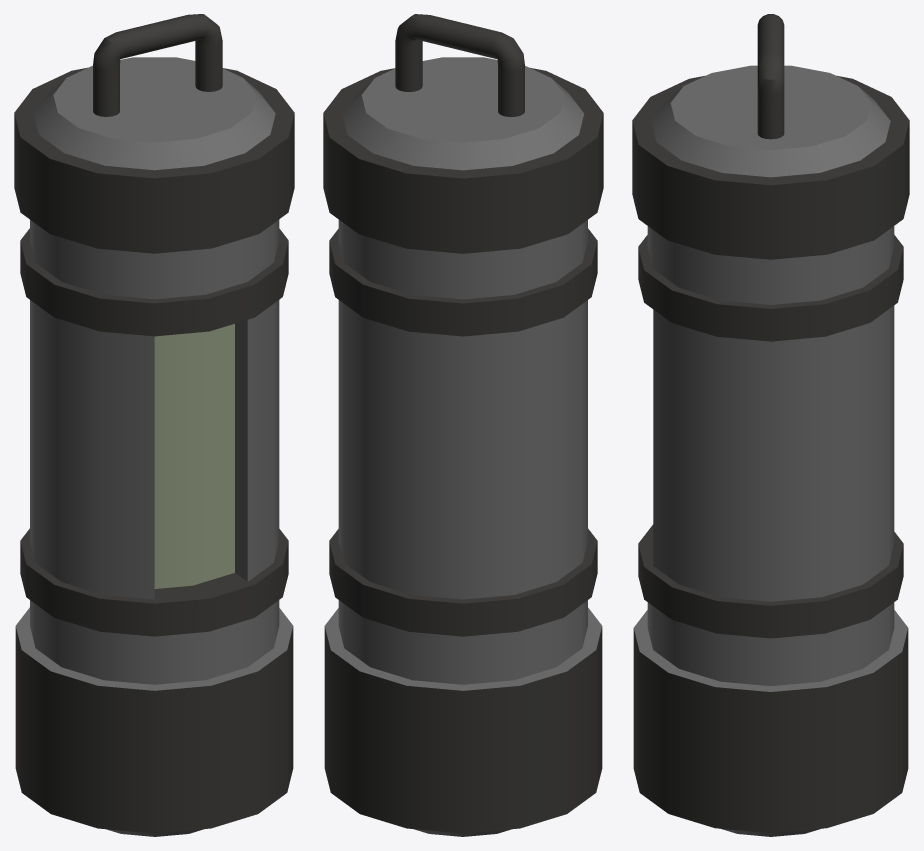
Rendered from Powercell_item.glb.
3 renders of one model, left to right at view 1: azimuth 30°, elevation 25°; view 2: azimuth 150°, elevation 25°; view 3: azimuth 270°, elevation 25°, orthographic.
Visible parts, largest first — view 1: Powercell_Item; view 2: Powercell_Item; view 3: Powercell_Item.
Boxes of the visible parts, x1,y1,x2,y2 form: Powercell_Item: (14,14,294,836); Powercell_Item: (323,14,603,836); Powercell_Item: (632,14,909,836).
Bounding box in the file's own units: 0.3955 × 1.22 × 0.3977.
1 material, 1 textured.
